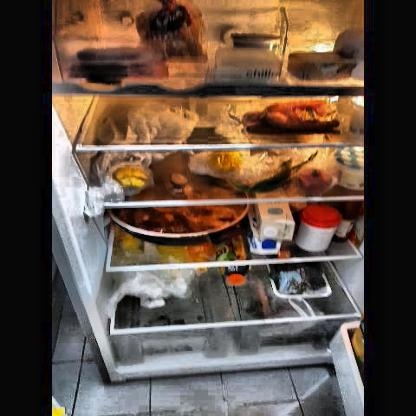broccoli: (270, 262, 330, 298)
butter: (289, 51, 356, 79)
carrot: (249, 103, 340, 134)
cheese: (212, 52, 278, 83)
green_chillies: (236, 165, 296, 193)
lemon: (112, 164, 152, 192), (210, 150, 247, 174)
milk: (247, 204, 294, 254)
salami: (74, 46, 146, 78)
tomato: (295, 168, 332, 194)
yoghurt: (333, 148, 365, 191), (233, 32, 280, 51)
